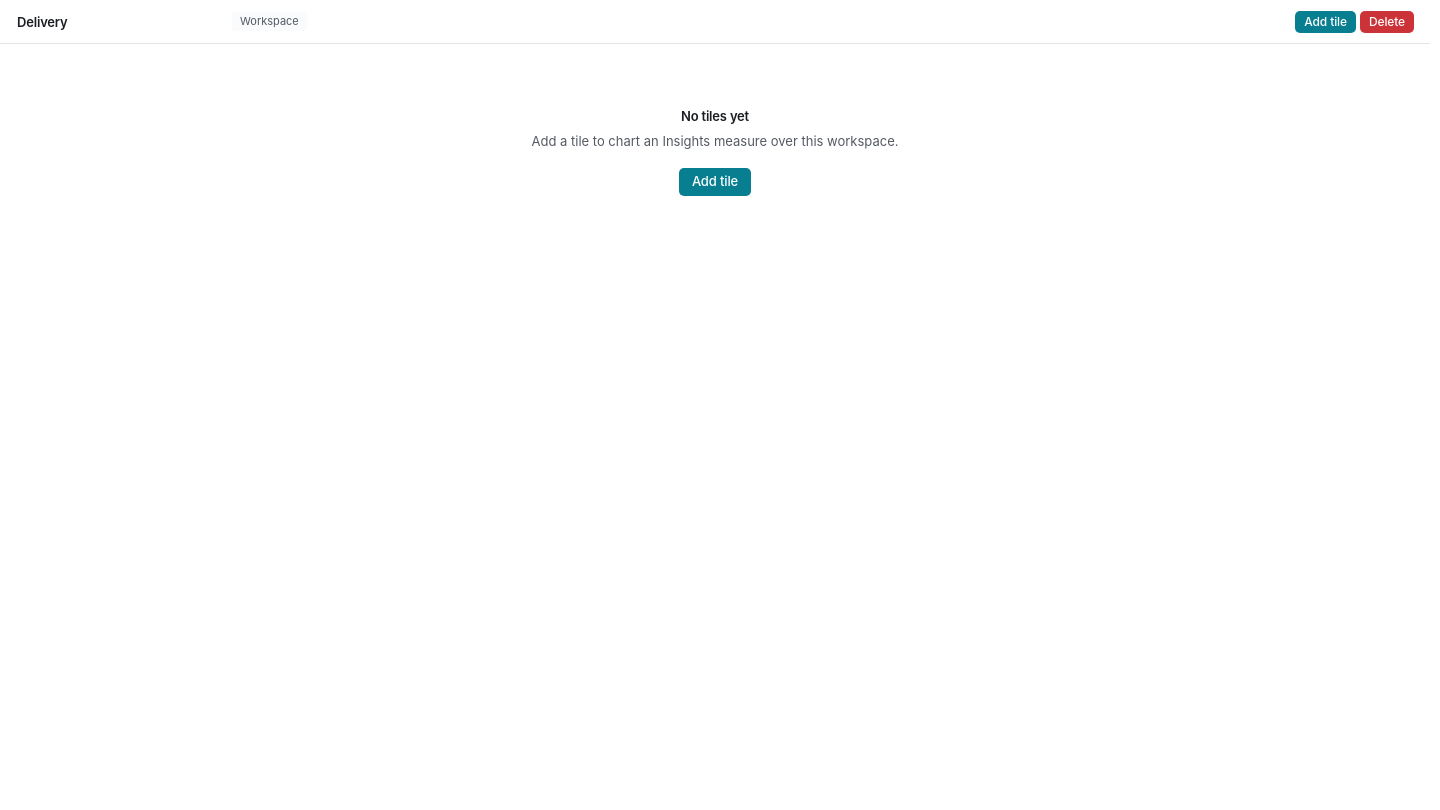
Scenario: deleting a dashboard › says what was deleted, by name
Click the button "Delete" at x=1387, y=22, box x1=1360 y1=10 x2=1414 y2=32
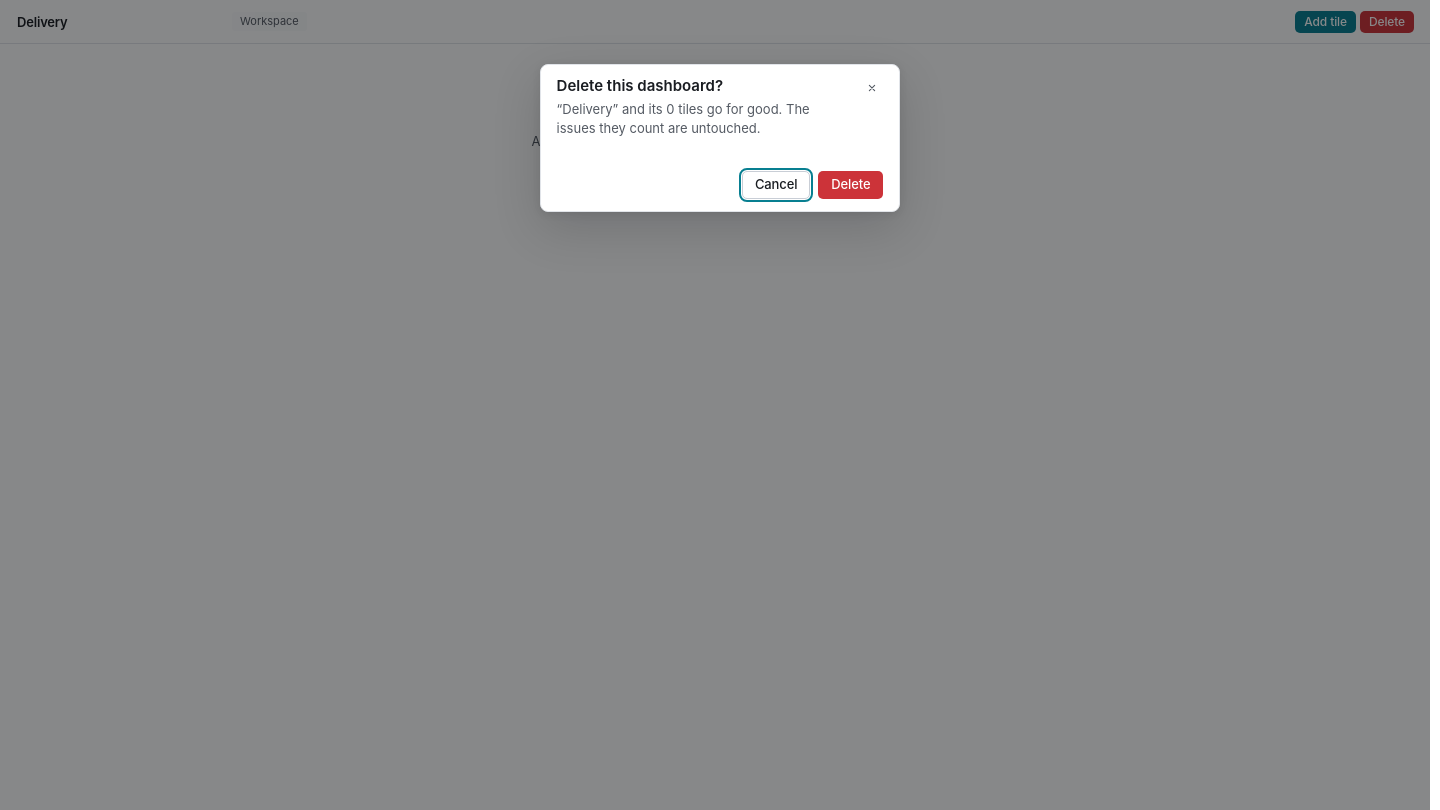
Click the button "Delete" at x=851, y=185, box x1=818 y1=171 x2=883 y2=199
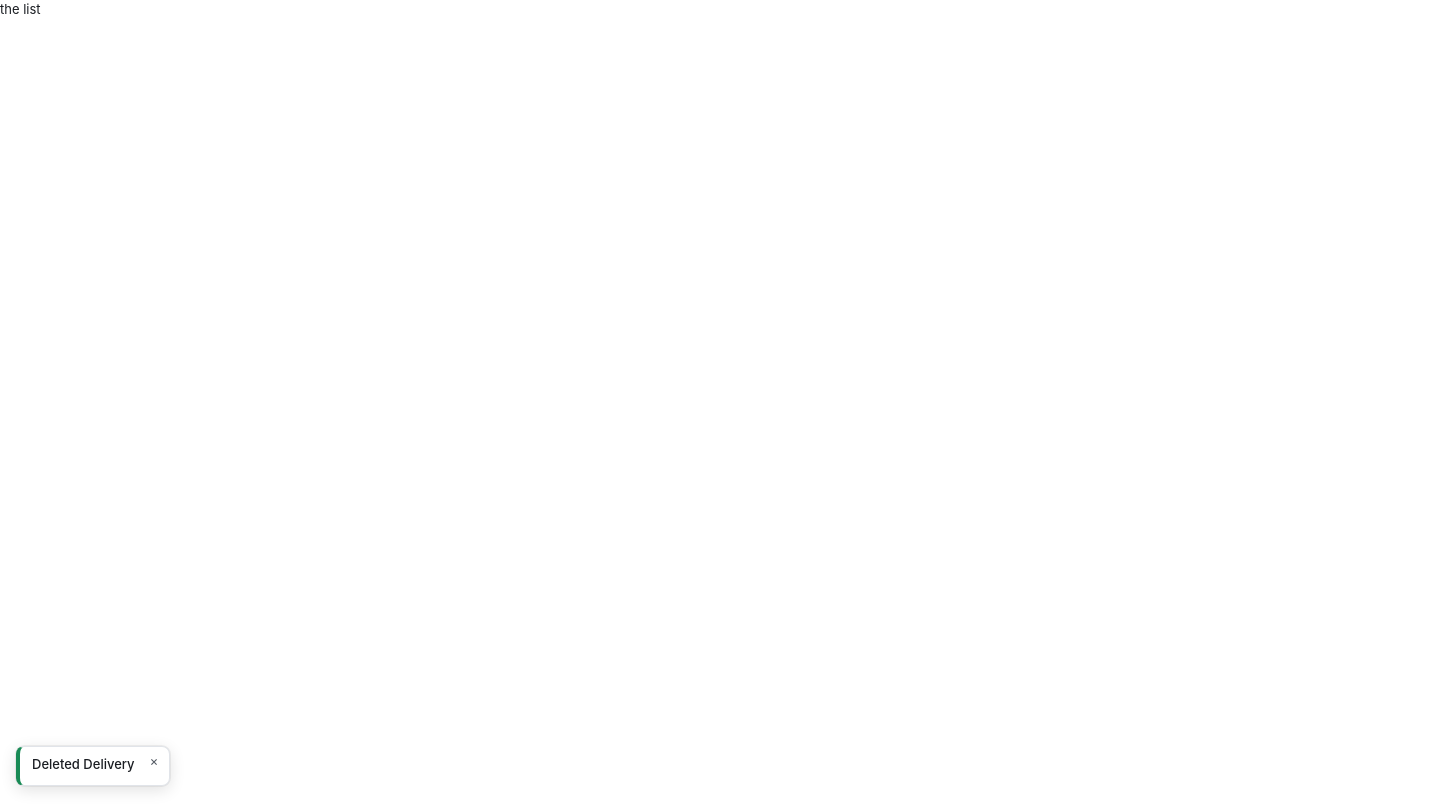
Check: the message reads "Deleted Delivery", box x1=32 y1=756 x2=134 y2=772
